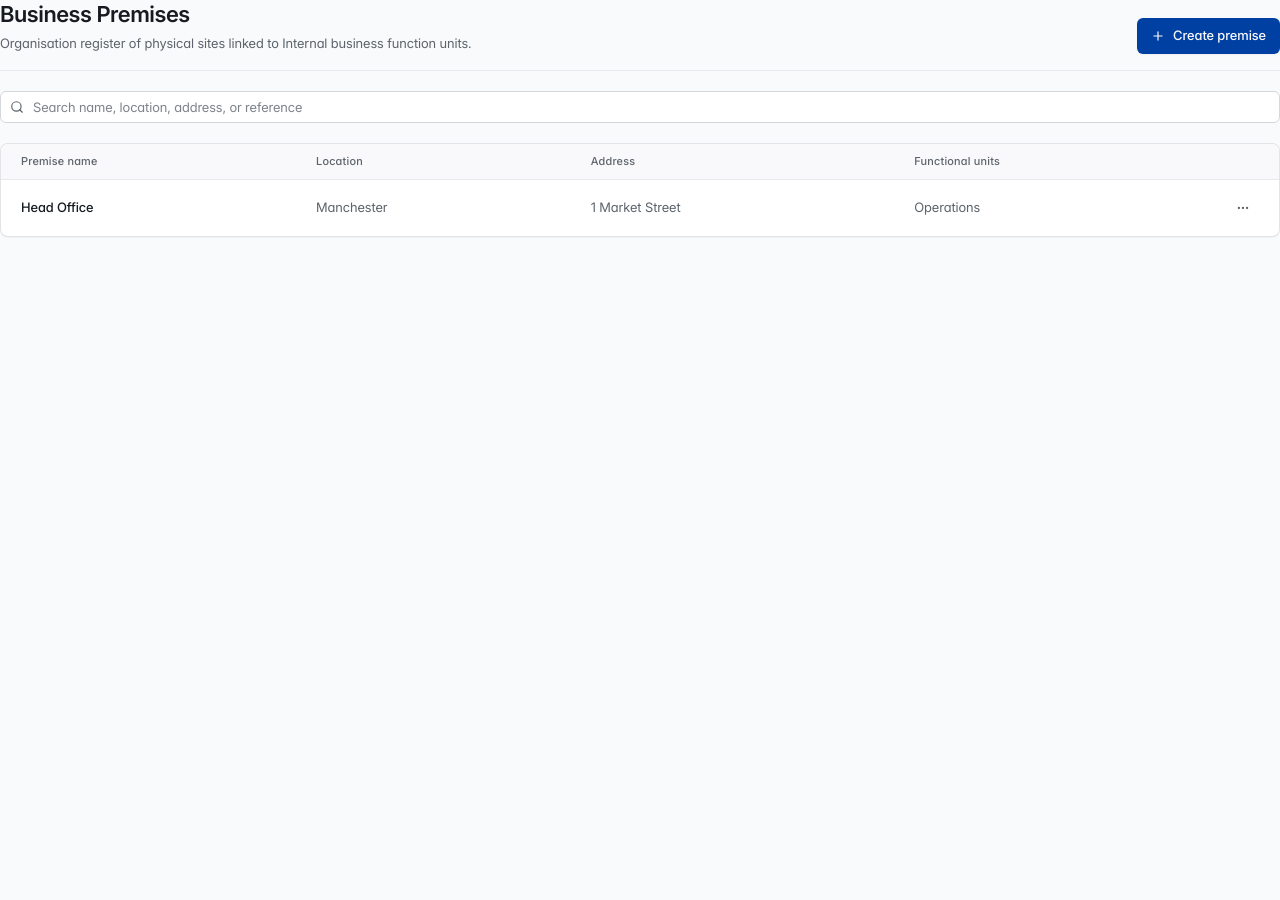
Test case: Business Premises list page › opens details sheet from row actions
Expected: the text "Head Office" is shown, top-left (1, 179), bottom-right (300, 236)
Click the button named "actions for head office".
click(1243, 208)  # box top-left (1227, 192), bottom-right (1259, 224)
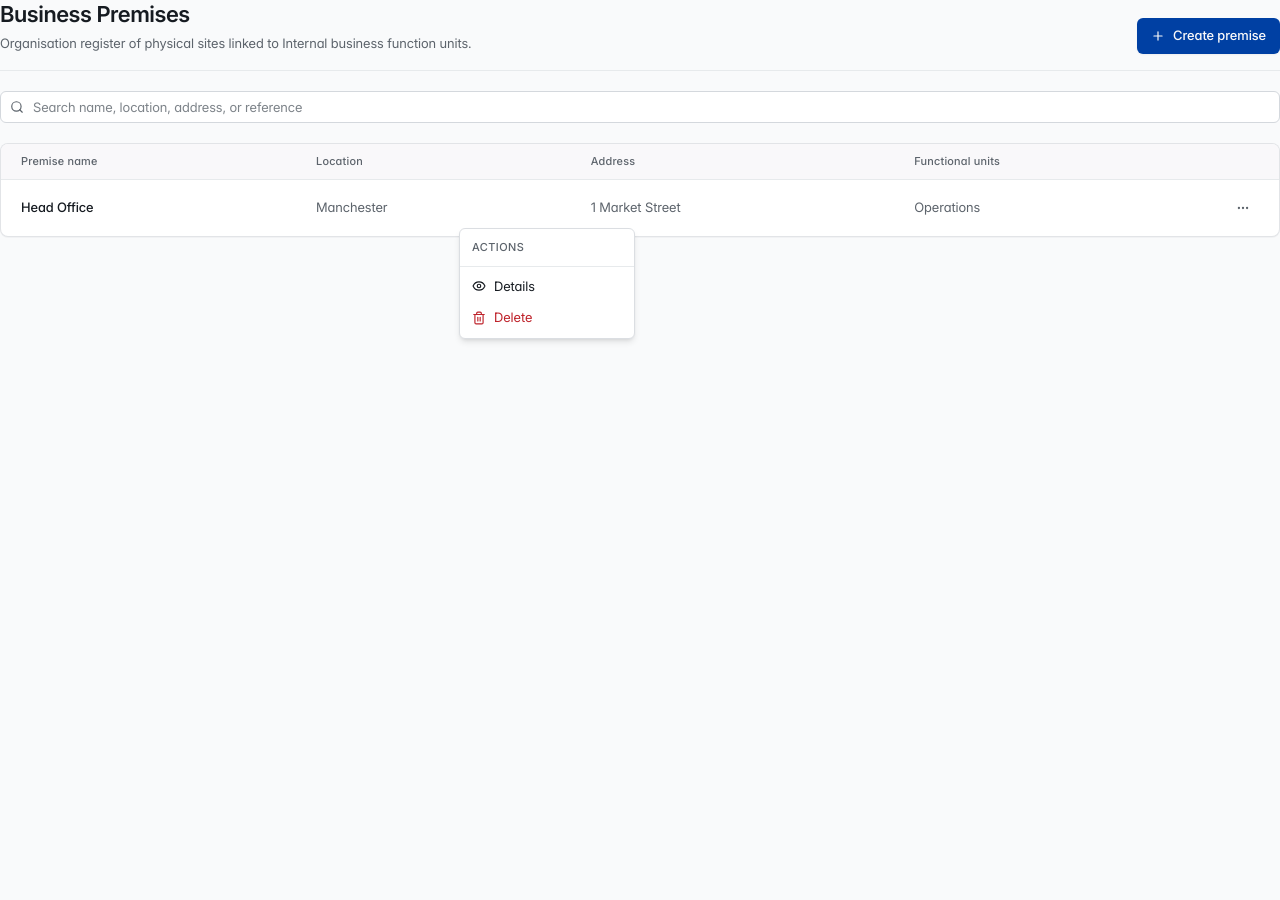
Click the menu item "Details".
click(503, 286)  # box top-left (472, 278), bottom-right (535, 294)
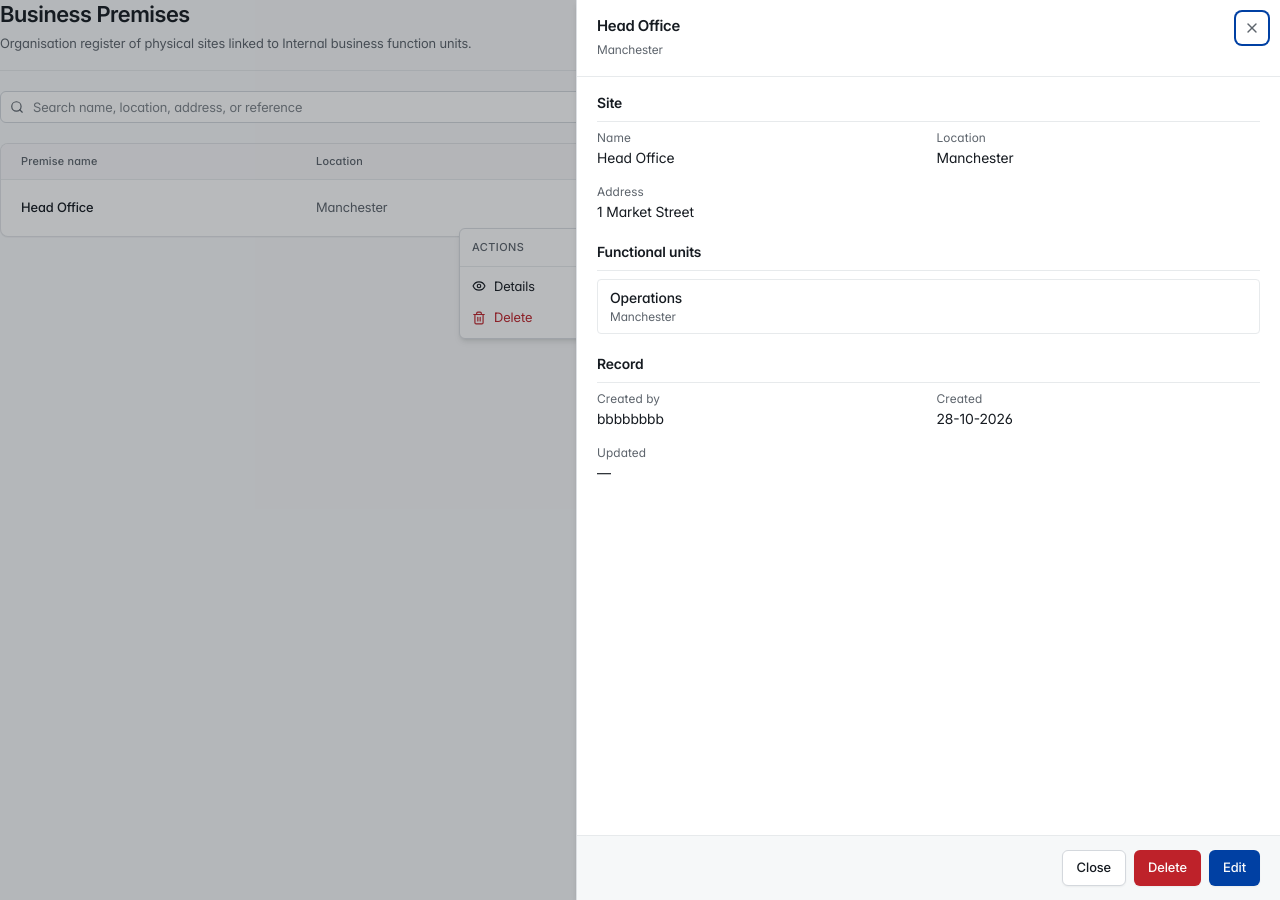
Expected: the button "Edit" is shown, top-left (1209, 850), bottom-right (1260, 886)
Expected: the button "Delete" is shown, top-left (1134, 850), bottom-right (1201, 886)
Expected: the heading "Site" is shown, top-left (597, 93), bottom-right (1260, 122)
